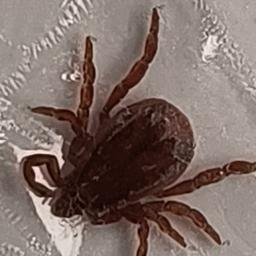Rhipicephalus sanguineus: (23, 7, 256, 255)
